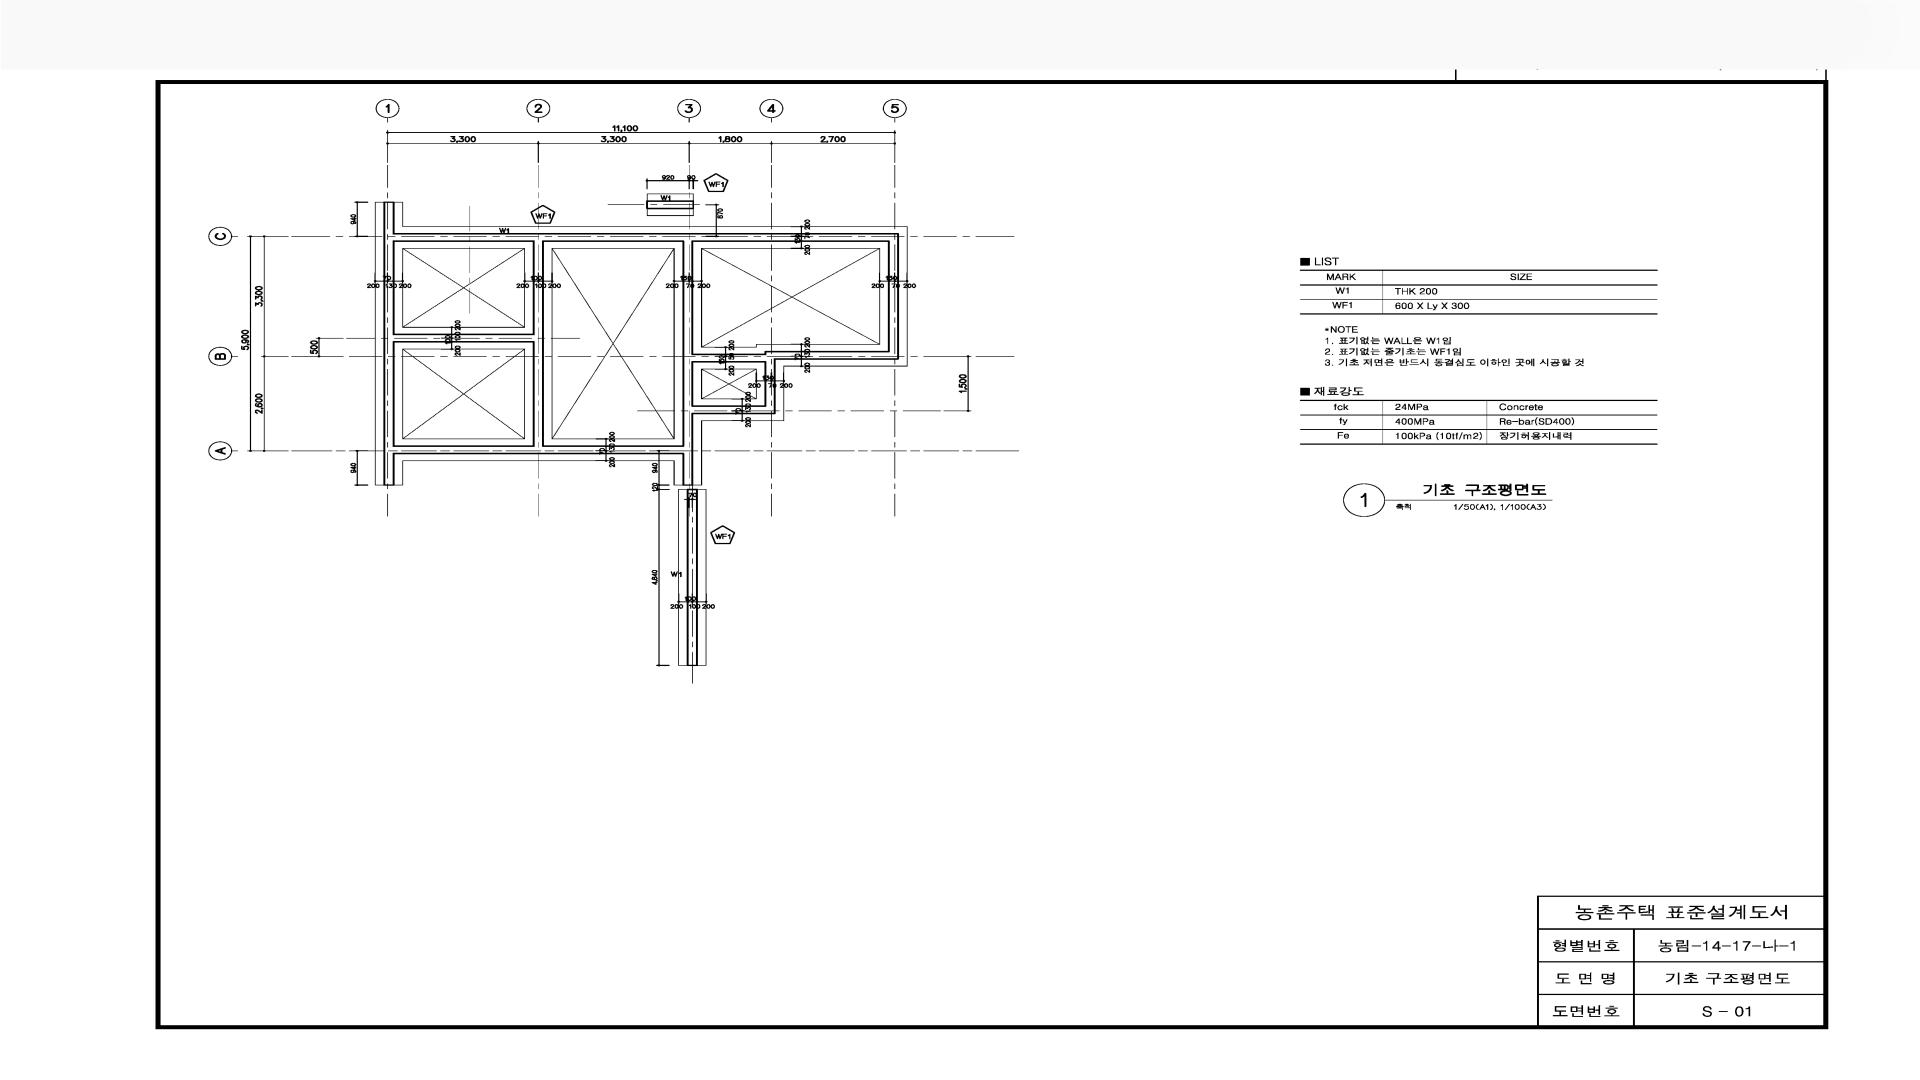wall: (384, 202, 899, 485), (394, 202, 907, 485), (394, 241, 694, 485), (543, 241, 682, 446), (694, 241, 887, 353), (394, 343, 533, 446), (394, 241, 533, 334), (394, 455, 683, 485), (694, 363, 765, 405), (375, 202, 384, 485), (543, 248, 551, 439), (694, 248, 702, 348), (394, 348, 402, 439), (394, 248, 402, 328), (694, 369, 702, 400)
